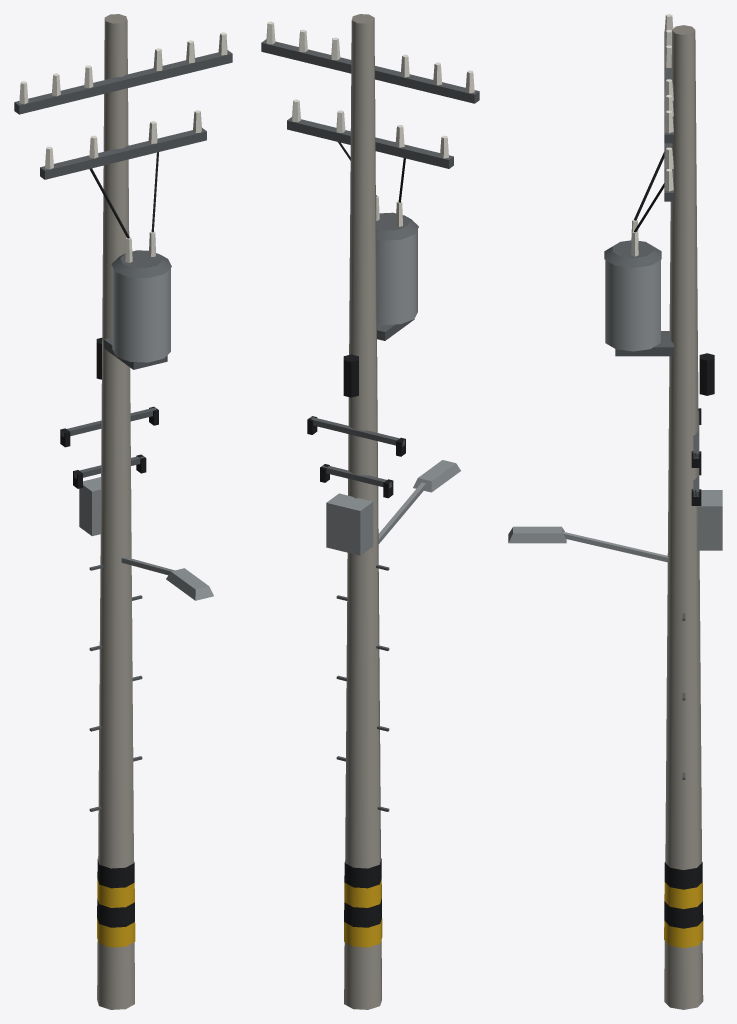
Rendered from tokyo_utility_pole.glb.
3 renders of one model, left to right at view 1: azimuth 30°, elevation 25°; view 2: azimuth 150°, elevation 25°; view 3: azimuth 270°, elevation 25°, orthographic.
Parts seen in each view (by area): view 1: tokyo_utility_pole; view 2: tokyo_utility_pole; view 3: tokyo_utility_pole.
Part boxes in pixels (left/top/right/bottom): tokyo_utility_pole: left=14, top=14, right=232, bottom=1009; tokyo_utility_pole: left=261, top=14, right=479, bottom=1009; tokyo_utility_pole: left=508, top=14, right=722, bottom=1009.
Size of the model in its own units: 2.5 by 11 by 2.2.
Materials: 1 (1 with a texture image).
